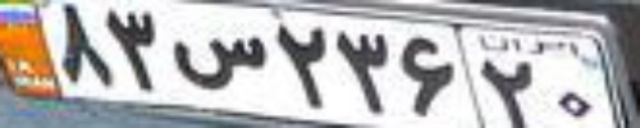0: (555, 91, 591, 118)
2: (477, 58, 544, 127), (277, 24, 329, 109)
3: (336, 30, 389, 113), (105, 7, 157, 91)
6: (397, 36, 459, 117)
8: (56, 4, 110, 84)
sin: (173, 34, 267, 89)
